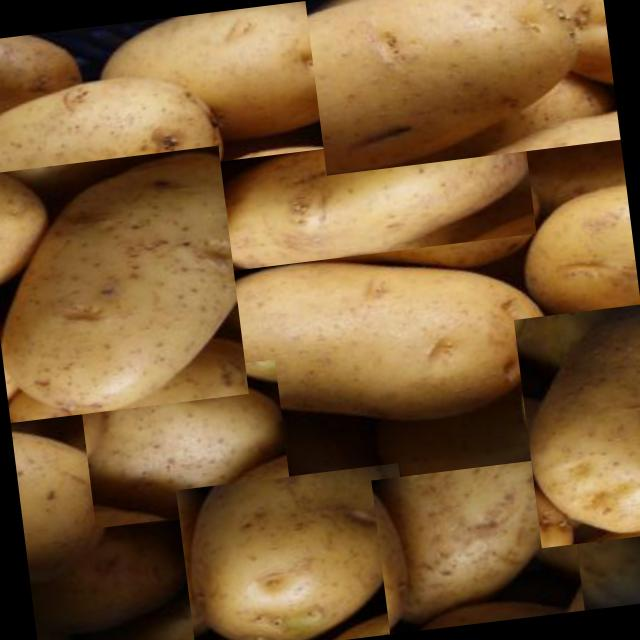Potato: (153, 236, 562, 447), (0, 144, 248, 421), (305, 0, 620, 174), (207, 123, 536, 271), (175, 461, 418, 640), (370, 455, 584, 634), (78, 358, 292, 528), (513, 303, 640, 547)
